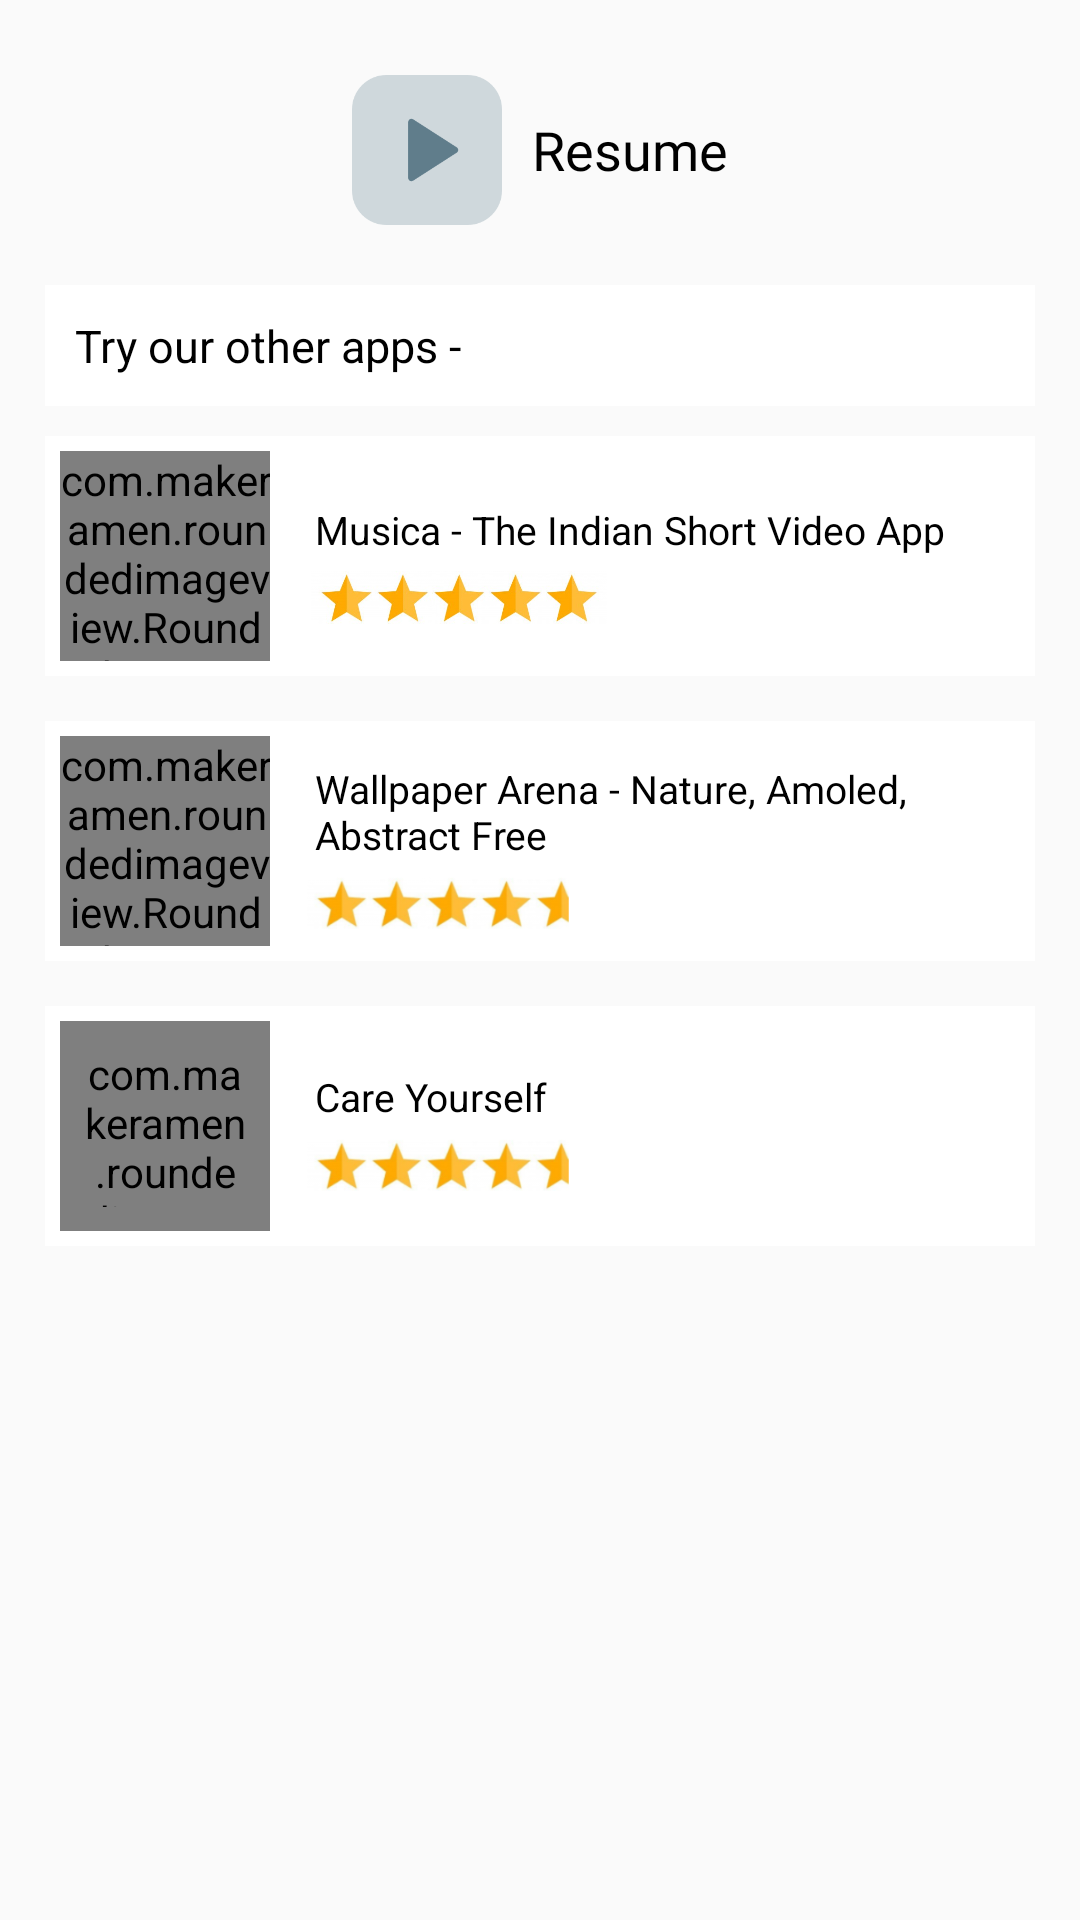

Icon bounding boxes for this 1080px×1920px phone screenshot, format (x1, y1, x2, y2):
5star: (321, 574, 597, 622)
